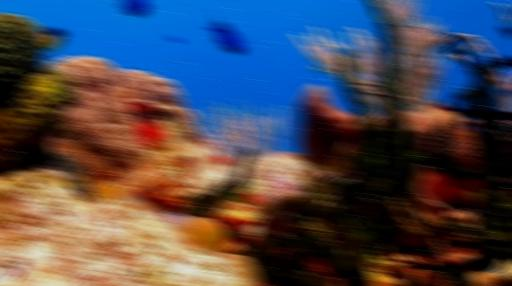Fish: (205, 9, 244, 54), (39, 27, 64, 50), (117, 0, 148, 16), (166, 35, 183, 42), (313, 65, 328, 72)
